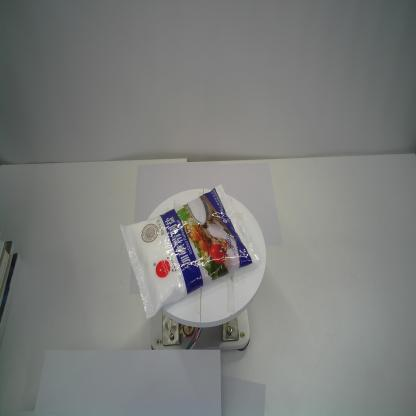Seasoner: (118, 181, 259, 321)
